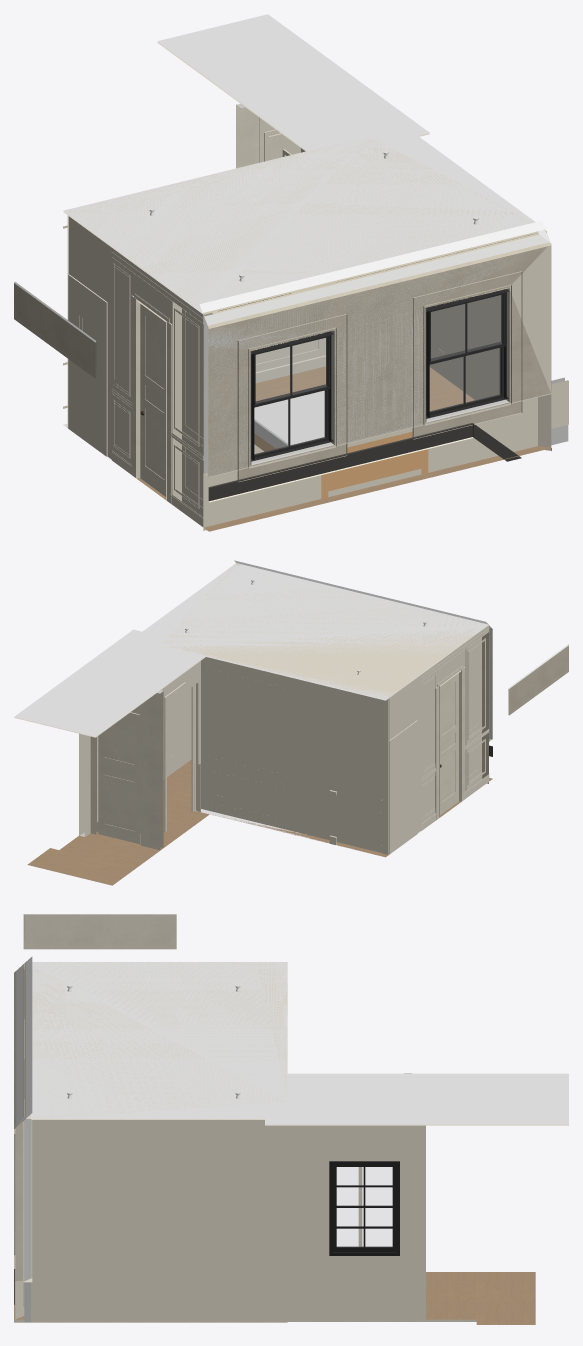
Rendered from blue-bedroom-a50495ec2391.glb.
3 views of the same model, one above another, from view 1: azimuth 30°, elevation 25°; view 2: azimuth 150°, elevation 25°; view 3: azimuth 270°, elevation 25° (orthographic). The views are drawn at different scales.
Parts seen in each view (by area): view 1: blue-bedroom-9d91b47435c6fb33, blue-bedroom-bddaf205afbd60c0, blue-bedroom-e8793759323e04f0, blue-bedroom-look-9d91b47435c6fb33, blue-bedroom-df3e1f21720b0c39, blue-bedroom-ed5fdcd3ee9c0dd5, blue-bedroom-3c3de67e8dd93323, blue-bedroom-649b3532e9781727, blue-bedroom-2f7d8eff34a2c180, blue-bedroom-d558d227e2c2e58e, blue-bedroom-746250f96522f643, blue-bedroom-64753ebcb3824a84 (+17 smaller); view 2: blue-bedroom-6e269356ae8bfd70, blue-bedroom-9d91b47435c6fb33, blue-bedroom-e8793759323e04f0, blue-bedroom-look-9d91b47435c6fb33, blue-bedroom-ed5fdcd3ee9c0dd5, blue-bedroom-look-dcc0092055abeaa8, blue-bedroom-look-2575515a05775d9e, blue-bedroom-look-eb02897c2e79e2b1, blue-bedroom-ead09a0b3f9e3bd9, blue-bedroom-3e649b0d114ae387, blue-bedroom-bf159a19de53e60e, blue-bedroom-746250f96522f643 (+13 smaller); view 3: blue-bedroom-746250f96522f643, blue-bedroom-9d91b47435c6fb33, blue-bedroom-look-746250f96522f643, blue-bedroom-e8793759323e04f0, blue-bedroom-look-9d91b47435c6fb33, blue-bedroom-look-5035c6783c6505b3, blue-bedroom-look-2575515a05775d9e, blue-bedroom-look-3a4d9d62ecd7be1c, blue-bedroom-0a6e1f8a567f4490, blue-bedroom-64753ebcb3824a84, blue-bedroom-2575515a05775d9e, blue-bedroom-49f6d498b24b79cd.
Boxes of the visible parts, x1,y1,x2,y2 form: blue-bedroom-9d91b47435c6fb33: [63, 127, 538, 314]; blue-bedroom-bddaf205afbd60c0: [207, 242, 550, 476]; blue-bedroom-e8793759323e04f0: [64, 138, 545, 312]; blue-bedroom-look-9d91b47435c6fb33: [157, 14, 429, 151]; blue-bedroom-df3e1f21720b0c39: [208, 243, 551, 475]; blue-bedroom-ed5fdcd3ee9c0dd5: [67, 215, 181, 500]; blue-bedroom-3c3de67e8dd93323: [251, 330, 333, 461]; blue-bedroom-649b3532e9781727: [426, 289, 509, 418]; blue-bedroom-2f7d8eff34a2c180: [203, 393, 551, 530]; blue-bedroom-d558d227e2c2e58e: [254, 390, 428, 498]; blue-bedroom-746250f96522f643: [398, 234, 532, 399]; blue-bedroom-64753ebcb3824a84: [204, 234, 548, 476]; blue-bedroom-6e269356ae8bfd70: [200, 656, 389, 855]; blue-bedroom-9d91b47435c6fb33: [134, 564, 488, 700]; blue-bedroom-e8793759323e04f0: [161, 560, 488, 698]; blue-bedroom-look-9d91b47435c6fb33: [14, 629, 205, 737]; blue-bedroom-ed5fdcd3ee9c0dd5: [382, 641, 465, 854]; blue-bedroom-look-dcc0092055abeaa8: [98, 712, 140, 844]; blue-bedroom-look-2575515a05775d9e: [27, 803, 209, 885]; blue-bedroom-look-eb02897c2e79e2b1: [90, 690, 163, 850]; blue-bedroom-ead09a0b3f9e3bd9: [389, 720, 417, 854]; blue-bedroom-3e649b0d114ae387: [465, 625, 488, 790]; blue-bedroom-bf159a19de53e60e: [440, 673, 458, 814]; blue-bedroom-746250f96522f643: [161, 672, 191, 779]; blue-bedroom-746250f96522f643: [32, 1119, 287, 1319]; blue-bedroom-9d91b47435c6fb33: [24, 962, 287, 1119]; blue-bedroom-look-746250f96522f643: [287, 1125, 425, 1319]; blue-bedroom-e8793759323e04f0: [25, 956, 287, 1118]; blue-bedroom-look-9d91b47435c6fb33: [265, 1073, 568, 1125]; blue-bedroom-look-5035c6783c6505b3: [329, 1161, 399, 1255]; blue-bedroom-look-2575515a05775d9e: [287, 1272, 535, 1324]; blue-bedroom-look-3a4d9d62ecd7be1c: [23, 914, 176, 949]; blue-bedroom-0a6e1f8a567f4490: [15, 1121, 22, 1281]; blue-bedroom-64753ebcb3824a84: [16, 964, 23, 1126]; blue-bedroom-2575515a05775d9e: [14, 1269, 287, 1322]; blue-bedroom-49f6d498b24b79cd: [24, 1118, 30, 1281].
Size of the model in its own units: 6.73 by 3.04 by 7.3.
Materials: 28 (5 with a texture image).
